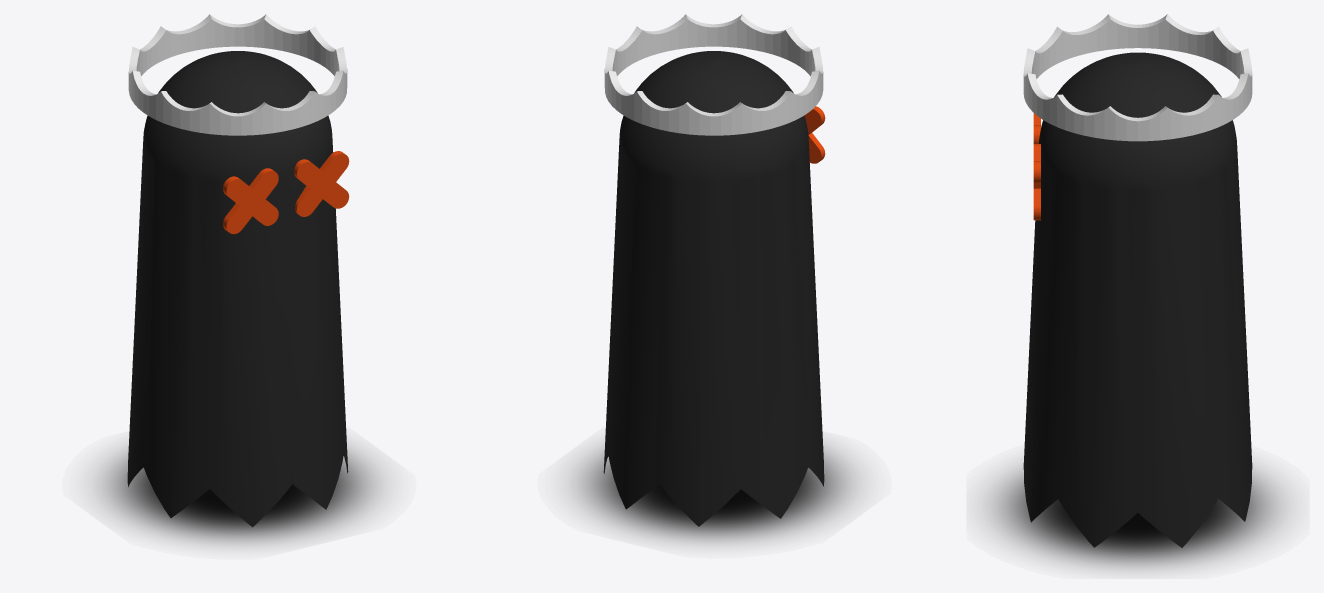
Rendered from ghost.glb.
3 renders of one model, left to right at view 1: azimuth 30°, elevation 25°; view 2: azimuth 150°, elevation 25°; view 3: azimuth 270°, elevation 25°, orthographic. The views are drawn at different scales.
Visible parts, largest first — view 1: body, shad, crown, eyes; view 2: body, shad, crown, eyes; view 3: body, shad, crown, eyes.
Boxes of the visible parts, box(x1,y1,x2,y2) form: body: box(127, 51, 348, 527); shad: box(96, 445, 382, 545); crown: box(128, 14, 347, 135); eyes: box(223, 151, 349, 234); body: box(603, 51, 824, 526); shad: box(571, 444, 858, 543); crown: box(604, 14, 823, 135); eyes: box(804, 106, 825, 163); body: box(1023, 52, 1252, 547); shad: box(986, 465, 1285, 569); crown: box(1023, 14, 1252, 141); eyes: box(1033, 113, 1040, 220).
Size of the model in its own units: 3.45 by 4.95 by 3.45.
Materials: 3 (1 with a texture image).
